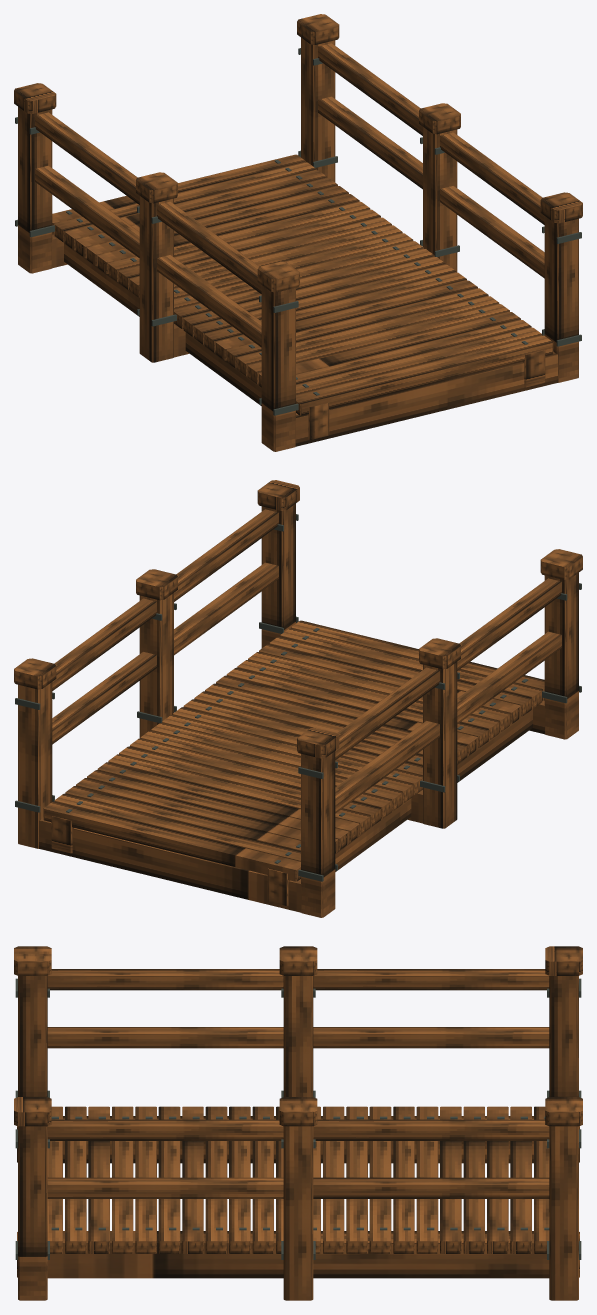
Rendered from SM_HP_Bridge_LOD0.fbx.
The picture shows the model from 3 angles, top to bottom: view 1: azimuth 30°, elevation 25°; view 2: azimuth 150°, elevation 25°; view 3: azimuth 270°, elevation 25°; orthographic projection. The views are drawn at different scales.
Visible parts, largest first — view 1: SM_HP_Bridge_LOD0; view 2: SM_HP_Bridge_LOD0; view 3: SM_HP_Bridge_LOD0.
Part boxes in pixels (x1,y1,x2,y2): SM_HP_Bridge_LOD0: [14, 14, 582, 451]; SM_HP_Bridge_LOD0: [14, 480, 582, 917]; SM_HP_Bridge_LOD0: [14, 946, 582, 1300].
Bounding box in the file's own units: 2.51 × 3.64 × 1.34.
2 materials, 1 textured.
